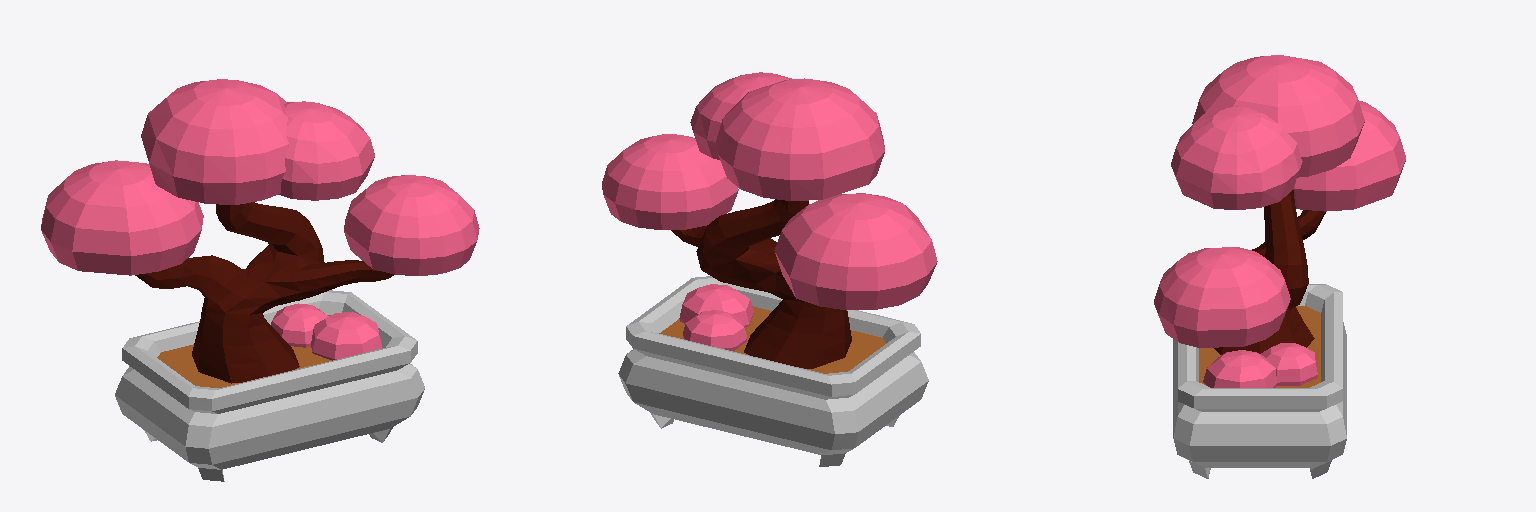
Rendered from bonsai_blossom.obj.
3 renders of one model, left to right at view 1: azimuth 30°, elevation 25°; view 2: azimuth 150°, elevation 25°; view 3: azimuth 270°, elevation 25°, orthographic.
Parts seen in each view (by area): view 1: bonsai_blossom_Cube.145; view 2: bonsai_blossom_Cube.145; view 3: bonsai_blossom_Cube.145.
Boxes of the visible parts, x1=… form: bonsai_blossom_Cube.145: x1=41, y1=79, x2=479, y2=481; bonsai_blossom_Cube.145: x1=602, y1=72, x2=937, y2=466; bonsai_blossom_Cube.145: x1=1154, y1=55, x2=1405, y2=478.
Bounding box in the file's own units: 1.36 × 1.26 × 0.8193.